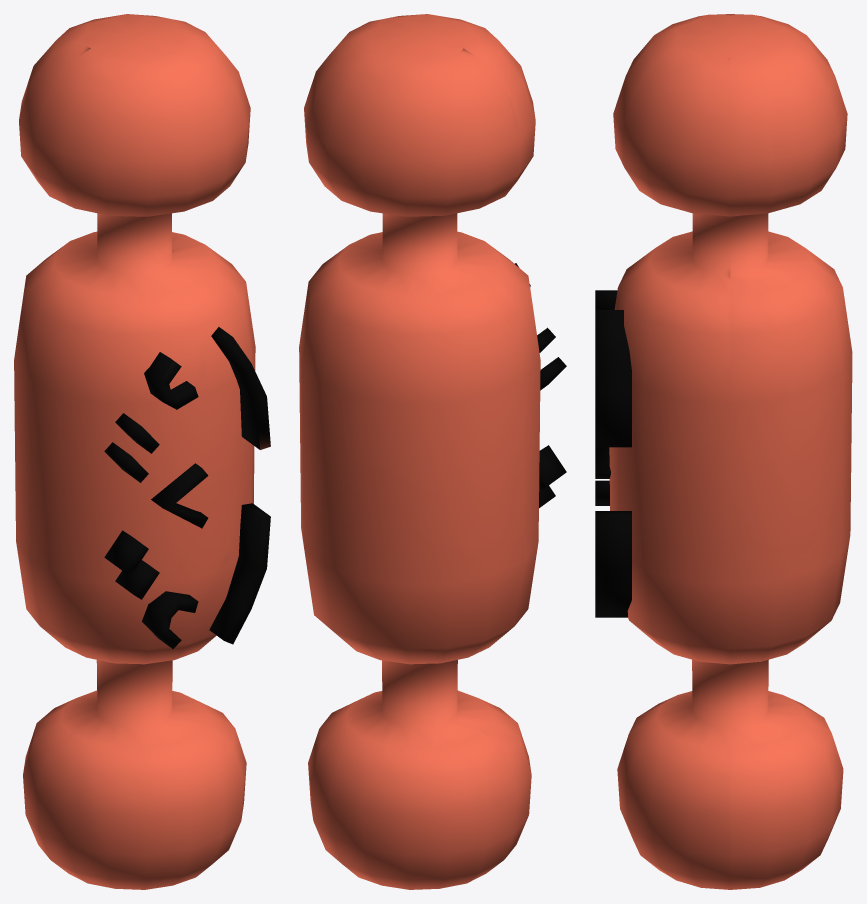
The model's file is RoloLow.fbx.
The picture shows the model from 3 angles, left to right: view 1: azimuth 30°, elevation 25°; view 2: azimuth 150°, elevation 25°; view 3: azimuth 270°, elevation 25°; orthographic projection.
Visible parts, largest first — view 1: RoloLow; view 2: RoloLow; view 3: RoloLow.
Part boxes in pixels (x1,y1,x2,y2): RoloLow: (14,14,270,889); RoloLow: (299,14,566,889); RoloLow: (595,14,852,889).
Size of the model in its own units: 14.59 by 54.76 by 15.36.
